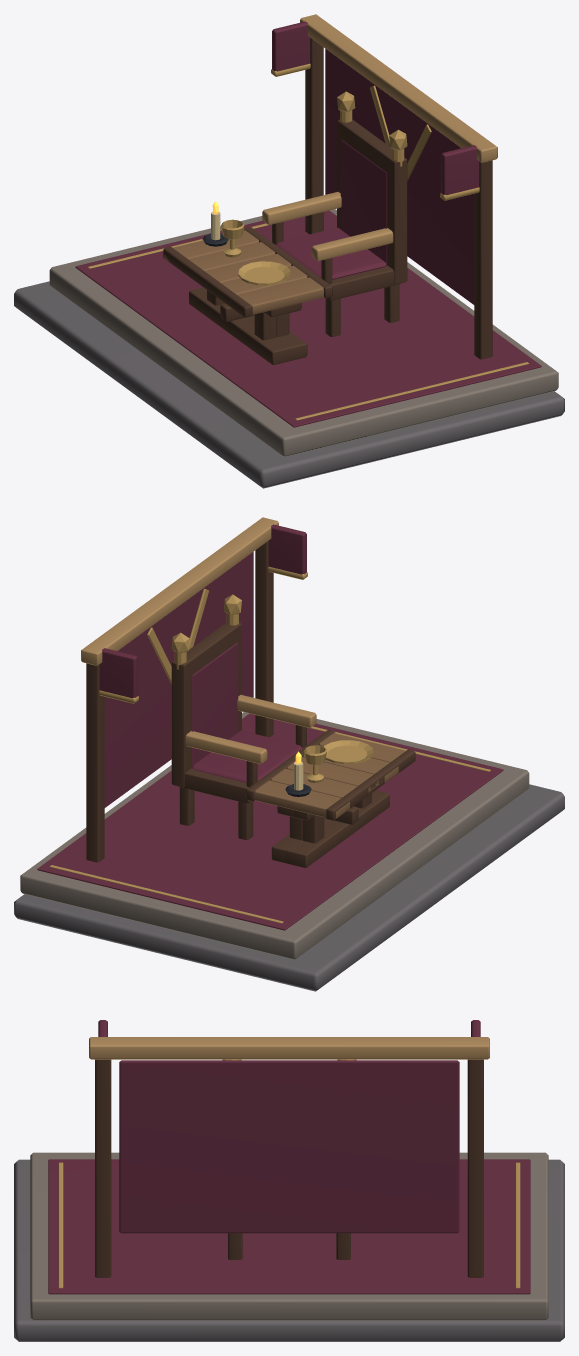
Rendered from feast_dais.glb.
The picture shows the model from 3 angles, top to bottom: view 1: azimuth 30°, elevation 25°; view 2: azimuth 150°, elevation 25°; view 3: azimuth 270°, elevation 25°; orthographic projection. The views are drawn at different scales.
Visible parts, largest first — view 1: feast_dais; view 2: feast_dais; view 3: feast_dais.
Boxes of the visible parts, x1=… form: feast_dais: x1=14, y1=14, x2=564, y2=488; feast_dais: x1=14, y1=517, x2=564, y2=991; feast_dais: x1=14, y1=1020, x2=564, y2=1341.
Bounding box in the file's own units: 4.81 × 3.81 × 6.8.
